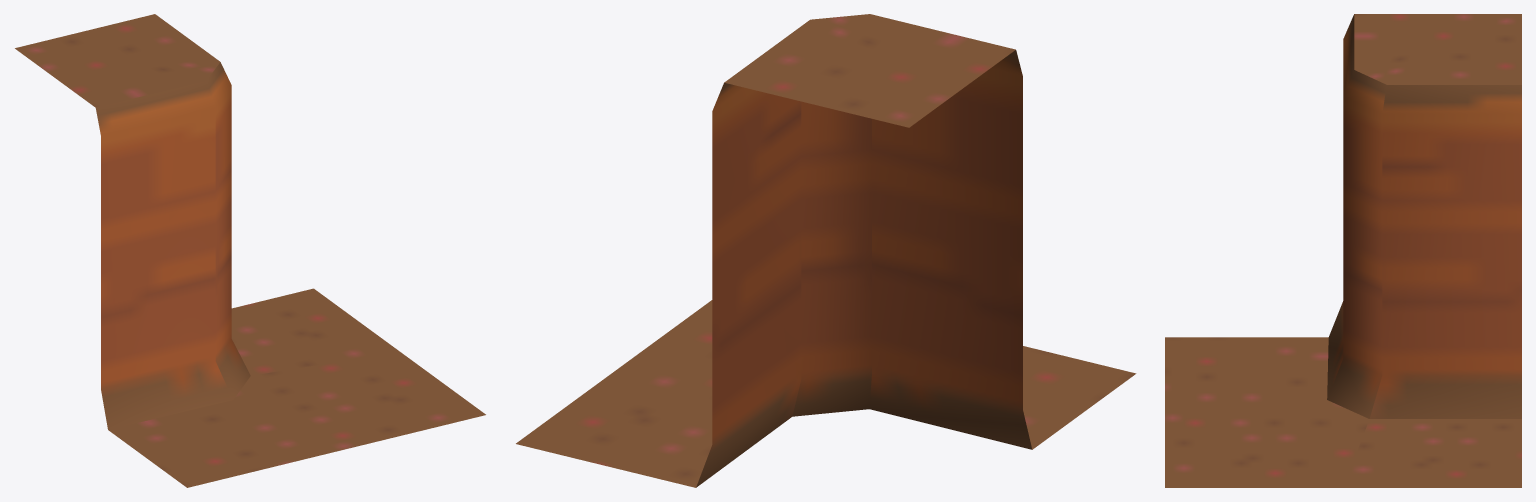
The model's file is canion_step_corner_v01.fbx.
3 renders of one model, left to right at view 1: azimuth 30°, elevation 25°; view 2: azimuth 150°, elevation 25°; view 3: azimuth 270°, elevation 25°, orthographic. The views are drawn at different scales.
Parts seen in each view (by area): view 1: canion_step_corner_v01; view 2: canion_step_corner_v01; view 3: canion_step_corner_v01.
Boxes of the visible parts, x1,y1,x2,y2 form: canion_step_corner_v01: (15, 14, 485, 487); canion_step_corner_v01: (516, 14, 1136, 487); canion_step_corner_v01: (1165, 14, 1521, 487).
Bounding box in the file's own units: 400 × 400 × 400.
